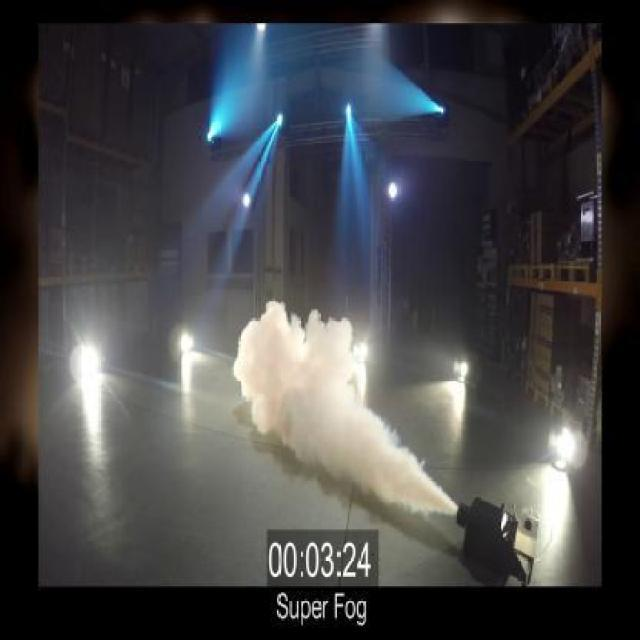fire: (232, 292, 450, 520)
